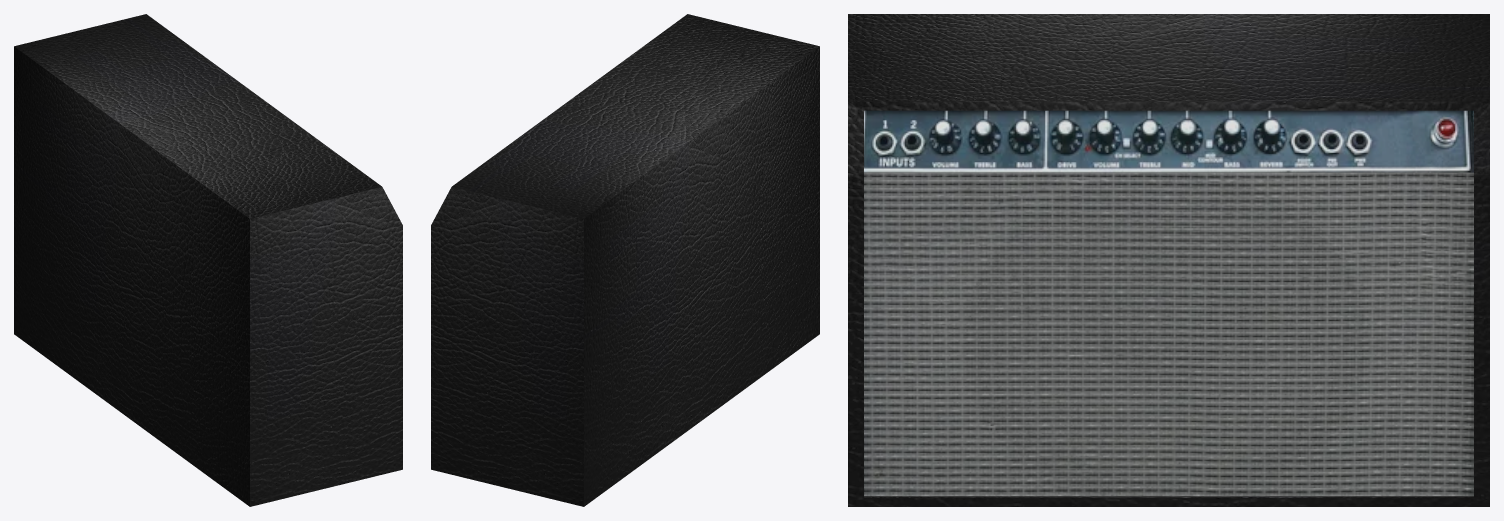
The model's file is GUITAR_AMP.fbx.
3 views of the same model, side by side, from view 1: azimuth 30°, elevation 25°; view 2: azimuth 150°, elevation 25°; view 3: azimuth 270°, elevation 25° (orthographic). The views are drawn at different scales.
Visible parts, largest first — view 1: GUITAR_AMP; view 2: GUITAR_AMP; view 3: GUITAR_AMP.
Boxes of the visible parts, x1,y1,x2,y2 form: GUITAR_AMP: (14, 14, 402, 506); GUITAR_AMP: (431, 14, 819, 506); GUITAR_AMP: (848, 14, 1489, 506).
Size of the model in its own units: 30.93 by 55.67 by 82.68.
